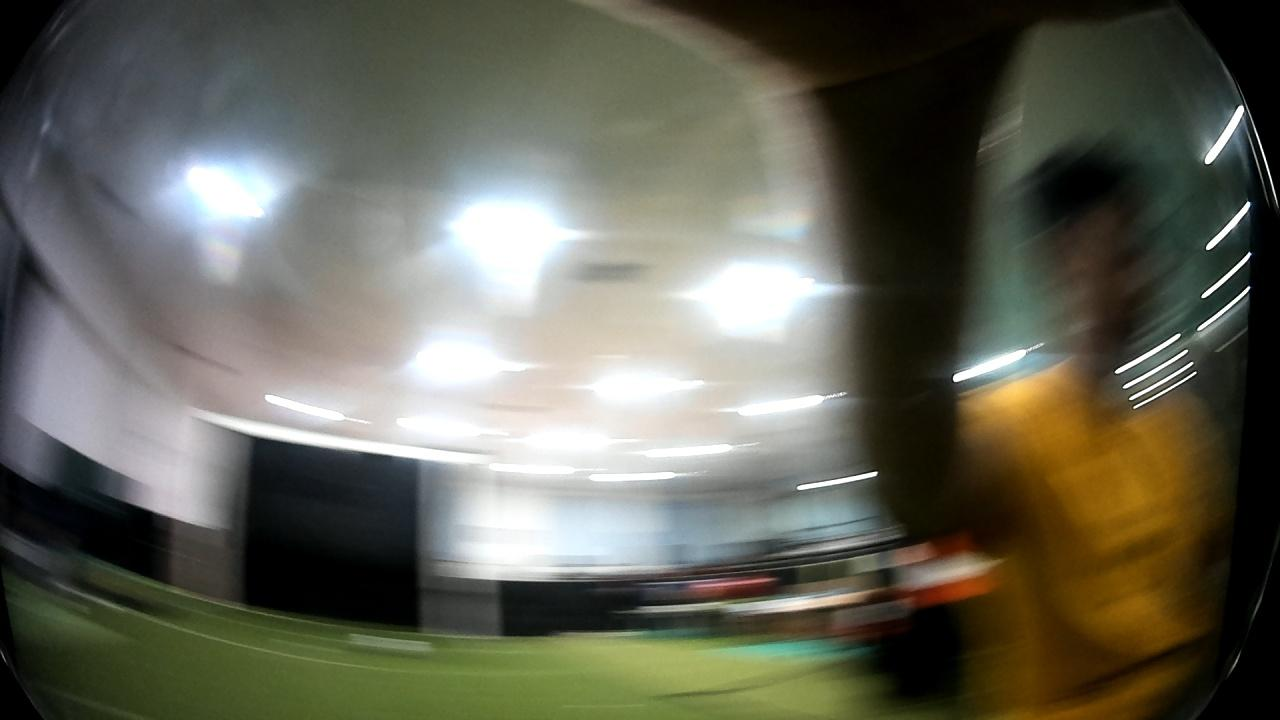ball: (341, 628, 438, 661)
